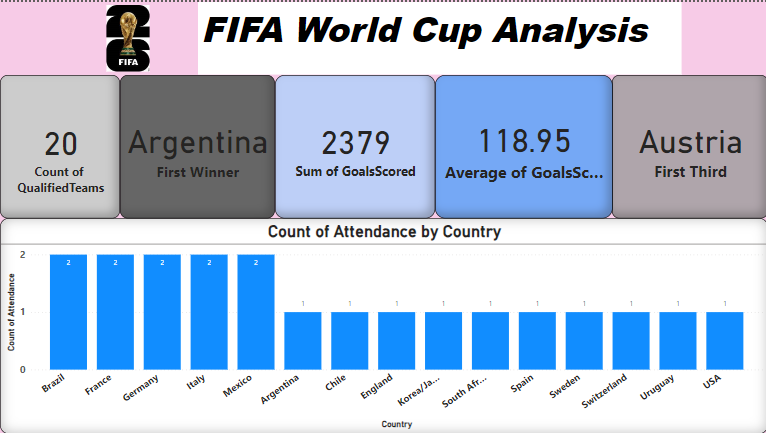

Layout of this report page (visuals, bound fields, positions):
{"tool":"powerbi","page":{"name":"fifa world cup analysis report-3","canvas":[1280,720],"ordinal":2},"visuals":[{"type":"columnChart","fields":{"Y":["CountNonNull(WorldCups.Attendance)"],"Category":["WorldCups.Country"]},"box":[0,359.7,1280,359.7],"z":0},{"type":"card","fields":{"Values":["CountNonNull(WorldCups.QualifiedTeams)"]},"box":[0,121.5,200.5,238.5],"z":1},{"type":"card","fields":{"Values":["Min(WorldCups.Winner)"]},"box":[200.5,121.5,257.6,238.5],"z":2},{"type":"card","fields":{"Values":["Min(WorldCups.Third)"]},"box":[1020,121.5,260.5,238.5],"z":4},{"type":"card","fields":{"Values":["Avg(WorldCups.GoalsScored)"]},"box":[724.4,121.5,295.6,238.5],"z":5},{"type":"card","fields":{"Values":["Sum(WorldCups.GoalsScored)"]},"box":[458.3,121.2,266.9,238.8],"z":6},{"type":"image","box":[62.9,0,300,121.5],"z":7},{"type":"textbox","box":[329.3,0,806.3,121.5],"z":8}]}

Visuals, with their boxes in screenshot pixels (x1, y1, x2, y2), scaled from the page's 1280x720 canvas onto the 766x433 screenshot:
columnChart - CountNonNull(WorldCups.Attendance) x WorldCups.Country: bbox=[0, 216, 765, 432]
card - CountNonNull(WorldCups.QualifiedTeams): bbox=[0, 73, 120, 216]
card - Min(WorldCups.Winner): bbox=[120, 73, 274, 216]
card - Min(WorldCups.Third): bbox=[610, 73, 765, 216]
card - Avg(WorldCups.GoalsScored): bbox=[434, 73, 610, 216]
card - Sum(WorldCups.GoalsScored): bbox=[274, 73, 434, 216]
image: bbox=[38, 0, 217, 73]
textbox: bbox=[197, 0, 680, 73]
